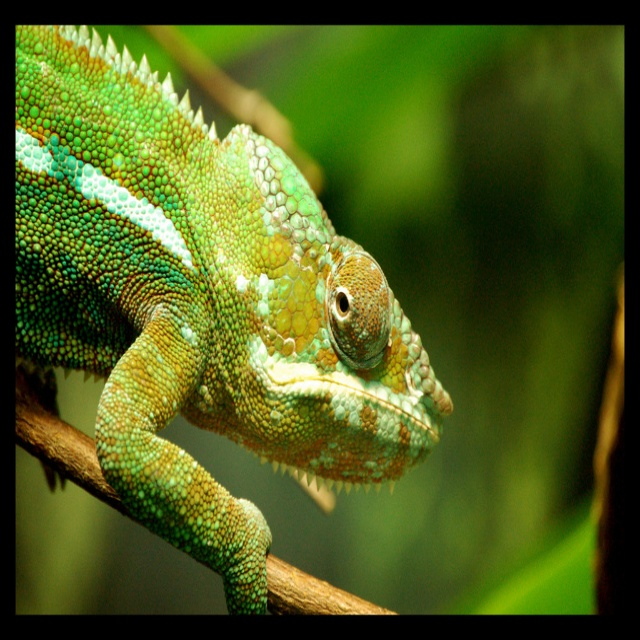Lizard: (16, 25, 454, 615)
